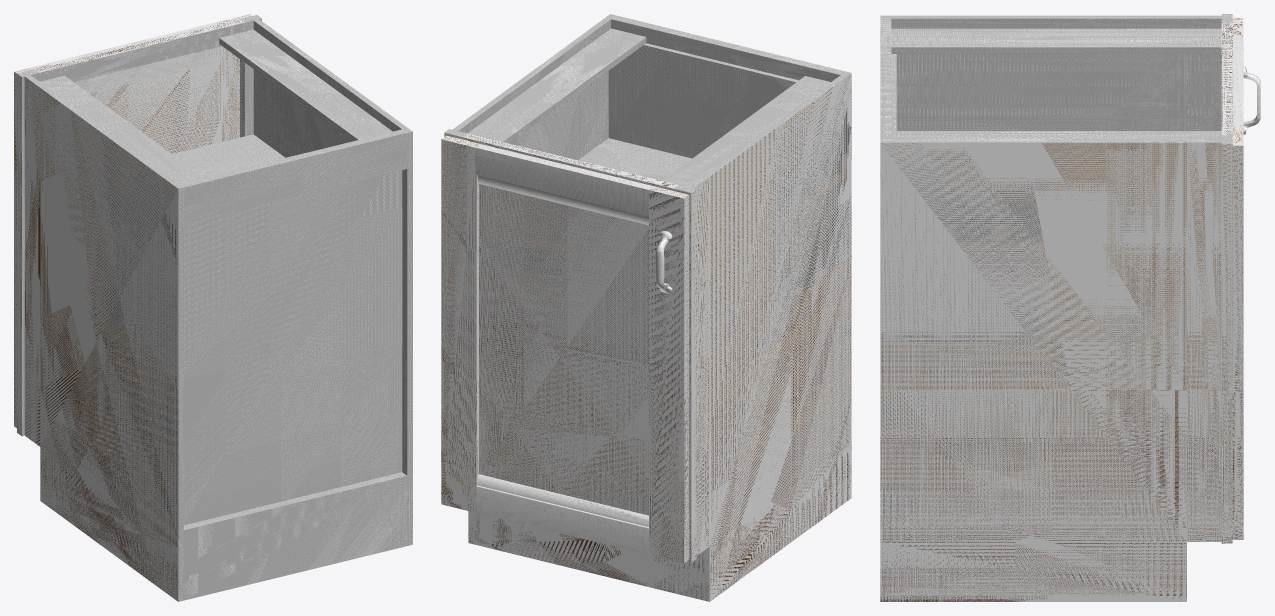
3 renders of one model, left to right at view 1: azimuth 30°, elevation 25°; view 2: azimuth 150°, elevation 25°; view 3: azimuth 270°, elevation 25°, orthographic. The views are drawn at different scales.
Parts seen in each view (by area): view 1: mesh5_mesh5-geometry, mesh8_mesh8-geometry, mesh13_mesh13-geometry, mesh4_mesh4-geometry, mesh11_mesh11-geometry, mesh9_mesh9-geometry, mesh21_mesh21-geometry, mesh7_mesh7-geometry, mesh15_mesh15-geometry, mesh6_mesh6-geometry, mesh3_mesh3-geometry, mesh16_mesh16-geometry (+5 smaller); view 2: mesh8_mesh8-geometry, mesh22_mesh22-geometry, mesh18_mesh18-geometry, mesh20_mesh20-geometry, mesh5_mesh5-geometry, mesh9_mesh9-geometry, mesh14_mesh14-geometry, mesh17_mesh17-geometry, mesh19_mesh19-geometry, mesh11_mesh11-geometry, mesh15_mesh15-geometry, mesh7_mesh7-geometry (+6 smaller); view 3: mesh11_mesh11-geometry, mesh8_mesh8-geometry, mesh12_mesh12-geometry, mesh10_mesh10-geometry, mesh16_mesh16-geometry, mesh3_mesh3-geometry, mesh20_mesh20-geometry, mesh7_mesh7-geometry, mesh15_mesh15-geometry, mesh4_mesh4-geometry, mesh6_mesh6-geometry, mesh17_mesh17-geometry.
Part boxes in pixels (left/top/right/bottom): mesh5_mesh5-geometry: left=184, top=170, right=402, bottom=525; mesh8_mesh8-geometry: left=40, top=86, right=183, bottom=547; mesh13_mesh13-geometry: left=184, top=472, right=407, bottom=600; mesh4_mesh4-geometry: left=179, top=129, right=407, bottom=223; mesh11_mesh11-geometry: left=269, top=30, right=412, bottom=491; mesh9_mesh9-geometry: left=40, top=447, right=183, bottom=601; mesh21_mesh21-geometry: left=90, top=62, right=220, bottom=153; mesh7_mesh7-geometry: left=24, top=75, right=45, bottom=446; mesh15_mesh15-geometry: left=219, top=29, right=392, bottom=141; mesh6_mesh6-geometry: left=34, top=19, right=244, bottom=82; mesh3_mesh3-geometry: left=17, top=15, right=261, bottom=436; mesh16_mesh16-geometry: left=40, top=75, right=203, bottom=183; mesh8_mesh8-geometry: left=704, top=71, right=851, bottom=546; mesh22_mesh22-geometry: left=479, top=184, right=648, bottom=515; mesh18_mesh18-geometry: left=649, top=186, right=689, bottom=563; mesh20_mesh20-geometry: left=441, top=135, right=481, bottom=512; mesh5_mesh5-geometry: left=608, top=43, right=798, bottom=158; mesh9_mesh9-geometry: left=704, top=443, right=851, bottom=601; mesh14_mesh14-geometry: left=474, top=512, right=703, bottom=600; mesh17_mesh17-geometry: left=476, top=144, right=653, bottom=225; mesh19_mesh19-geometry: left=476, top=474, right=648, bottom=554; mesh11_mesh11-geometry: left=468, top=14, right=615, bottom=160; mesh15_mesh15-geometry: left=468, top=28, right=646, bottom=143; mesh7_mesh7-geometry: left=688, top=175, right=709, bottom=555; mesh11_mesh11-geometry: left=880, top=139, right=1186, bottom=541; mesh8_mesh8-geometry: left=880, top=15, right=1186, bottom=130; mesh12_mesh12-geometry: left=880, top=542, right=1186, bottom=601; mesh10_mesh10-geometry: left=1187, top=139, right=1221, bottom=541; mesh16_mesh16-geometry: left=891, top=28, right=1221, bottom=53; mesh3_mesh3-geometry: left=1221, top=14, right=1232, bottom=543; mesh20_mesh20-geometry: left=1232, top=127, right=1243, bottom=539; mesh7_mesh7-geometry: left=1187, top=15, right=1221, bottom=130; mesh15_mesh15-geometry: left=891, top=131, right=1221, bottom=139; mesh4_mesh4-geometry: left=880, top=18, right=891, bottom=139; mesh6_mesh6-geometry: left=1221, top=23, right=1232, bottom=134; mesh17_mesh17-geometry: left=1232, top=36, right=1243, bottom=126.
Size of the model in its own units: 0.4377 by 0.719 by 0.5399.
